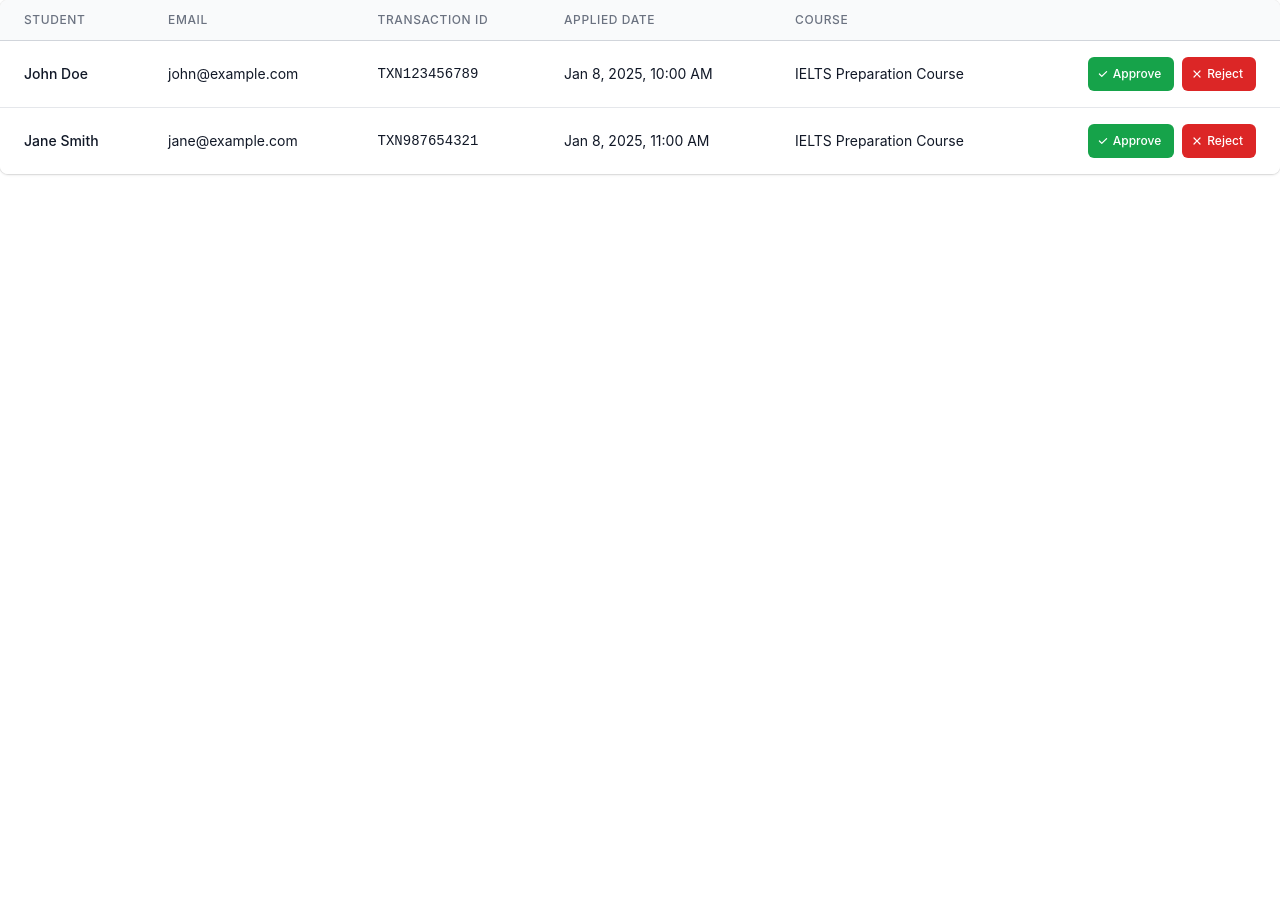
EnrollmentTable › can cancel confirmation dialog
This screenshot has width=1280, height=900.
Click the button "Approve" in the row of "John Doe": {"x": 1131, "y": 74} x1=1088 y1=57 x2=1174 y2=91
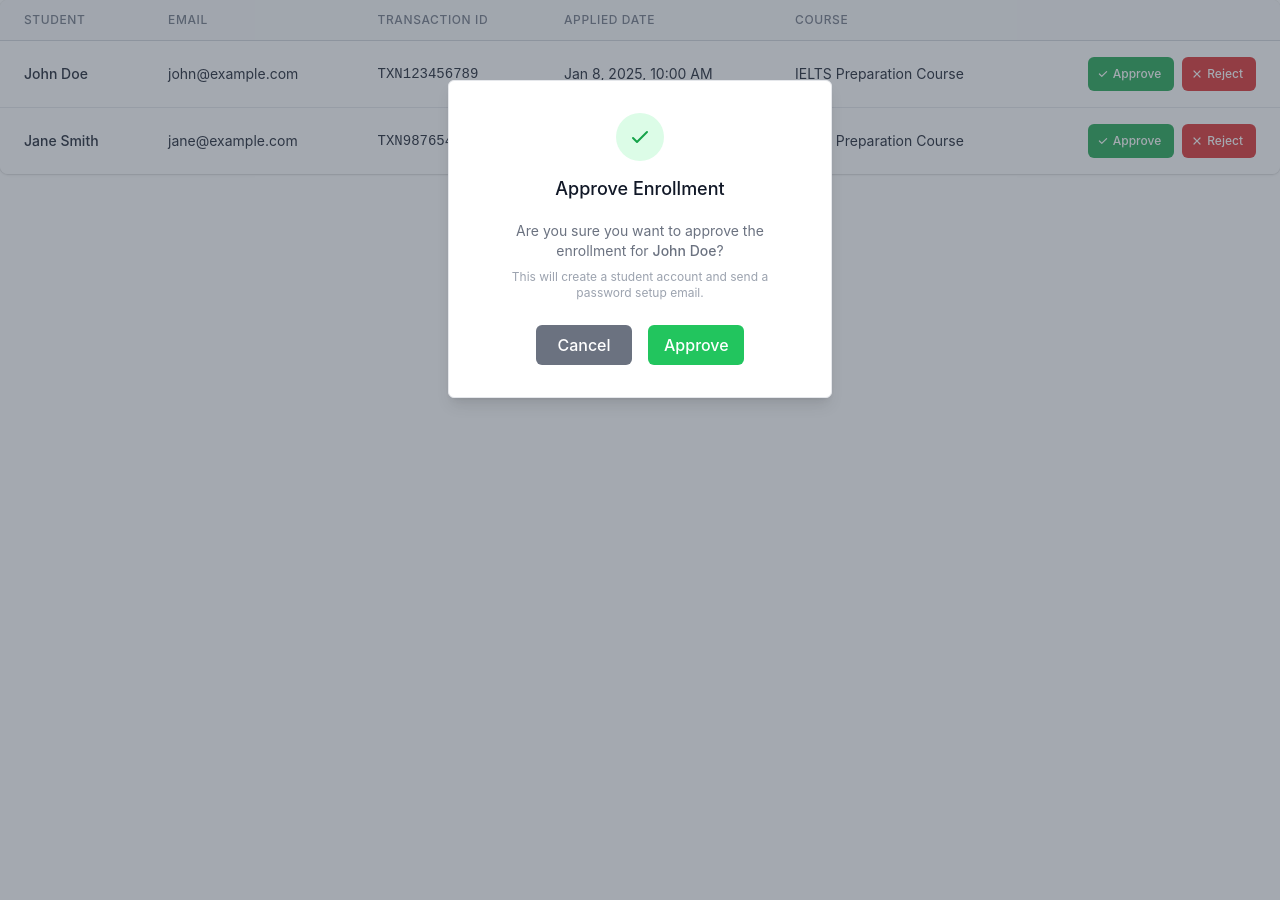
Now the heading "Approve Enrollment" is shown, box x1=555 y1=178 x2=725 y2=199
Click the button "Cancel": {"x": 584, "y": 345} x1=536 y1=325 x2=632 y2=365
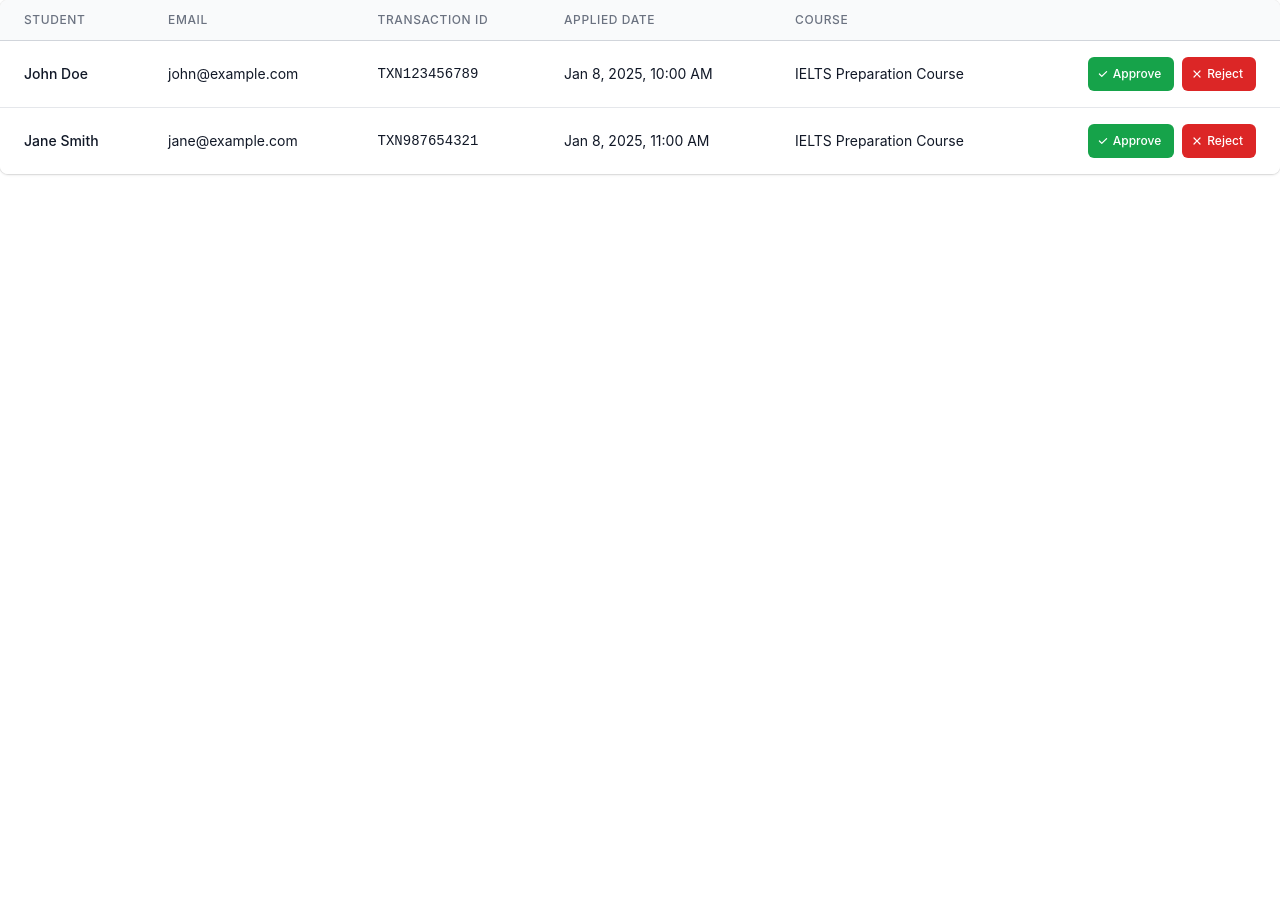
Now the heading "Approve Enrollment" is gone
